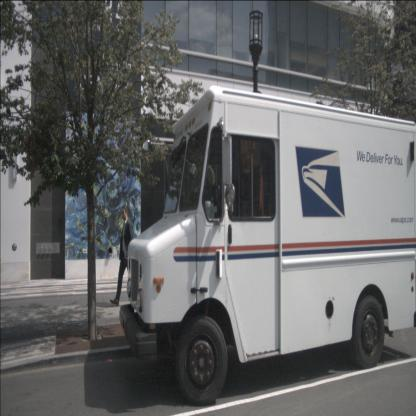human-pedestrian-adult: (110, 205, 139, 306)
vehicle-truck: (119, 84, 416, 406)
